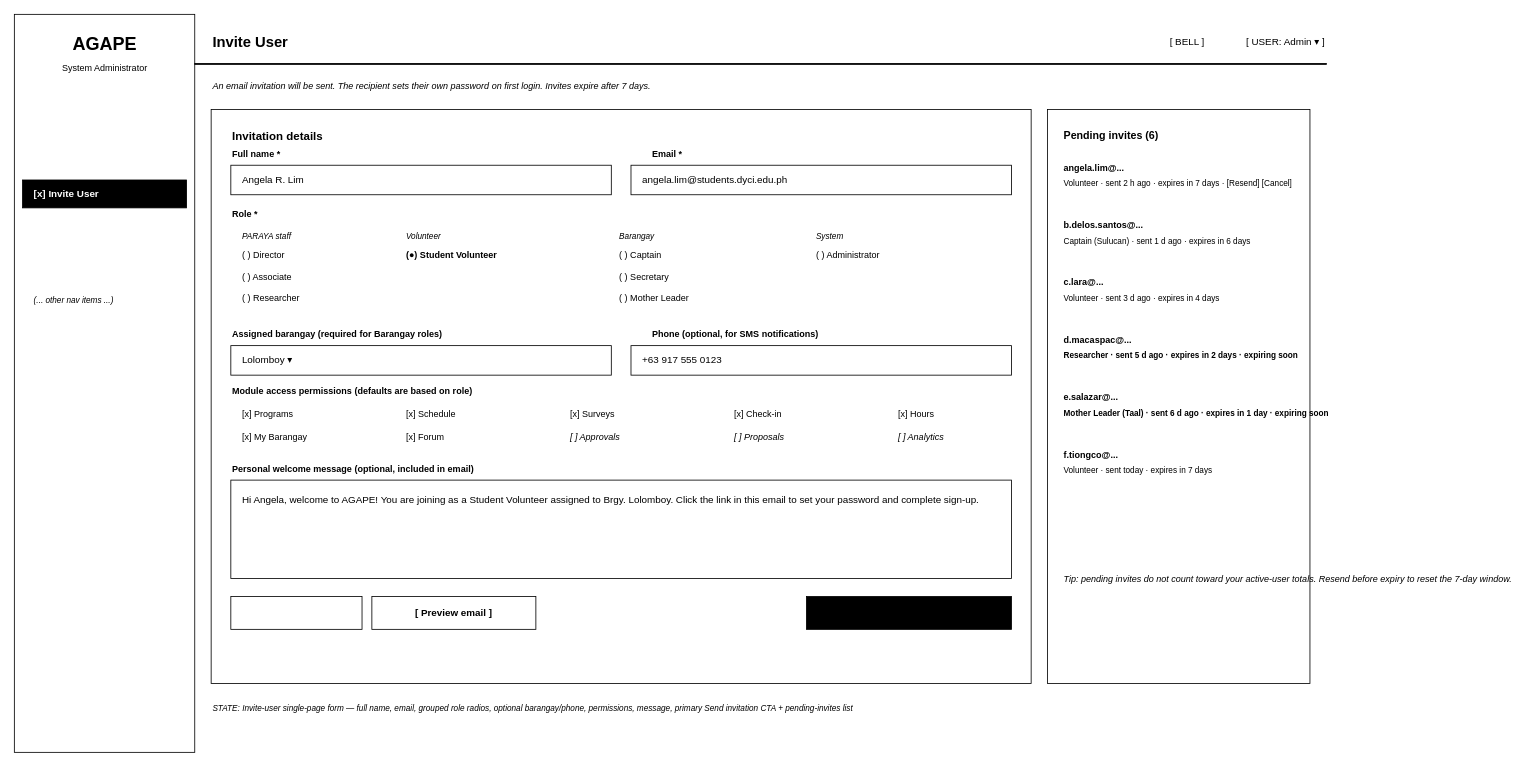
This 1527x767 diagram has some shape labels left out. Here are the shapes that lost their labels. From the top down, the centre of each, then its label:
point (296, 612): [ Cancel ]
point (908, 612): [ Send invitation ]
